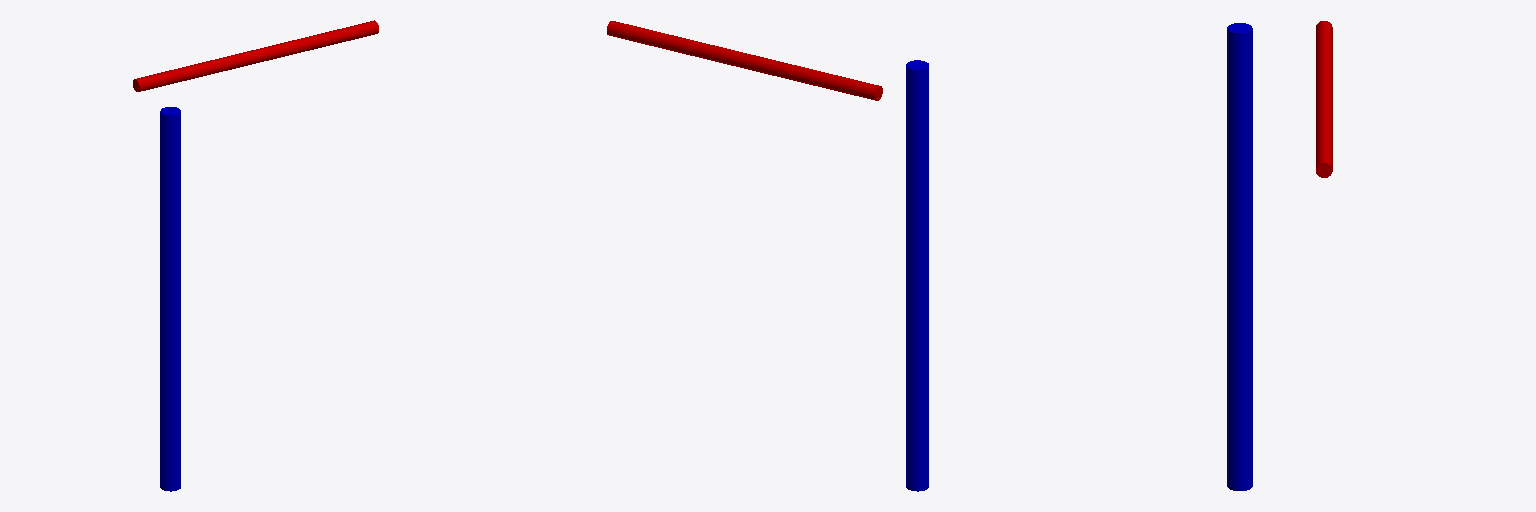
URDF robot description (simple_2_link):
<?xml version="1.0"?>
<robot name="simple_2_link">
    <link name="world">
        <inertial>
            <origin xyz="0.0 0.0 0.0" rpy="0.0 0.0 0.0"/>
            <mass value="0.001"/>
            <inertia ixx="0.00001" ixy="0.0" ixz="0.0" iyy="0.00001" iyz="0.0" izz="0.00001"/>
        </inertial>
    </link>
    <link name="base">
        <inertial>
            <origin xyz="0.0 0.0 0.0" rpy="0.0 0.0 0.0"/>
            <mass value="10"/>
            <inertia ixx="0.004" ixy="0.0" ixz="0.0" iyy="0.004" iyz="0.000" izz="0.002"/>
         </inertial>
        <visual>
            <origin xyz="0.0 0.0 0.3" rpy="0.0 0.0 0.0"/>
            <geometry>
                <cylinder length="0.6" radius="0.015"/>
            </geometry>
            <material name="blue">
                <color rgba="0.0 0.0 0.8 1.0"/>
            </material>
        </visual>
        <!-- <collision>
            <origin xyz="0.0 0.0 0.3" rpy="0.0 0.0 0.0"/>
            <geometry>
                <cylinder length="0.6" radius="0.015"/>
            </geometry>
         </collision> -->
    </link>
    <link name="link_1">
        <inertial>
            <origin xyz="0.2 0.0 0.1" rpy="0.0 0.0 0.0"/>
            <mass value="10"/>
            <inertia ixx="0.004" ixy="0.0" ixz="0.0" iyy="0.004" iyz="0.0" izz="0.002"/>
         </inertial>
        <visual>
            <origin xyz="0.2 0.0 0.1" rpy="0.0 1.5708 0.0"/>
            <geometry>
                <cylinder length="0.4" radius="0.01"/>
            </geometry>
            <material name="red">
                <color rgba="0.8 0.0 0.0 1.0"/>
            </material>
        </visual>
        <!-- <collision>
            <origin xyz="0.2 0.0 0.2" rpy="0.0 1.5708 0.0"/>
            <geometry>
                <cylinder length="0.4" radius="0.1"/>
            </geometry>
         </collision> -->
    </link>

    <link name="imu_link">
        <inertial>
            <origin xyz="0.0 0.0 0.0" rpy="0.0 0.0 0.0"/>
            <mass value="0.01"/>
            <inertia ixx="0.0001" ixy="0.0" ixz="0.0" iyy="0.0001" iyz="0.0" izz="0.0001"/>
        </inertial>
    </link>

    <joint name="world" type="fixed">
        <parent link="world"/>
        <child link="base"/>
        <origin xyz="0.0 0.0 0.0" rpy="0.0 0.0 0.0"/>
    </joint>

    <joint name="joint_1" type="revolute">
        <parent link="base"/>
        <child link="link_1"/>
        <origin xyz="0.0 0.0 0.6" rpy="-1.57079632679 0 0"/>
        <axis xyz="0.0 0.0 1.0"/>
        <limit effort="1000.0" velocity="10.0" lower="-10.0" upper="10.0"/>
    </joint>

    <joint name="imu_joint" type="fixed">
        <parent link="link_1"/>
        <child link="imu_link"/>
        <origin xyz="0.4 0.0 0.1" rpy="1.57079632679 0 1.57087963"/>
    </joint>
</robot>

--- Render facts (derived) ---
Views: 3 orthographic renders of the robot side by side, from view 1: azimuth 30°, elevation 25°; view 2: azimuth 150°, elevation 25°; view 3: azimuth 270°, elevation 25°.
Robot: simple_2_link — 4 links, 3 joints (1 revolute, 2 fixed); root link world; default pose: every joint at zero.
Visible links, largest first — view 1: base, link_1; view 2: base, link_1; view 3: base, link_1.
Boxes of the visible links, left/top/right/bottom form: base: left=160, top=107, right=180, bottom=491; link_1: left=133, top=20, right=378, bottom=91; base: left=906, top=60, right=928, bottom=491; link_1: left=607, top=21, right=882, bottom=100; base: left=1227, top=23, right=1252, bottom=490; link_1: left=1316, top=21, right=1332, bottom=177.
Bounding box of the posed robot: 0.415 × 0.125 × 0.61 m (x, y, z).
Geometry: primitives only (box / cylinder / sphere), no mesh files.
